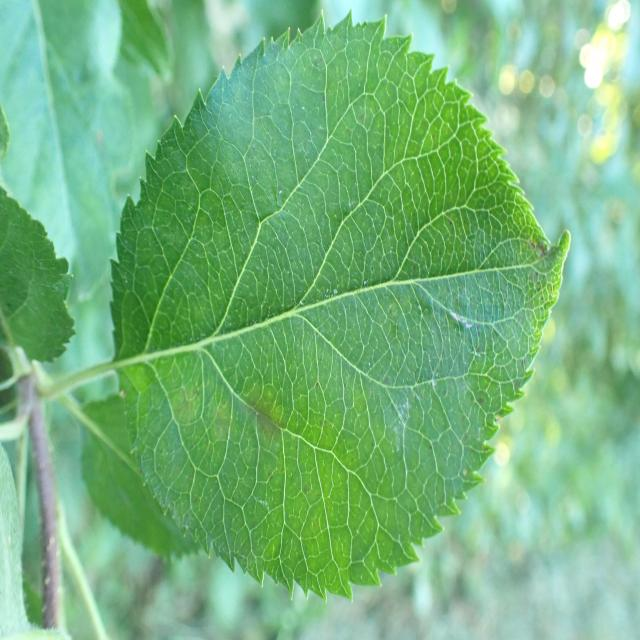scab: (138, 143, 558, 568)
